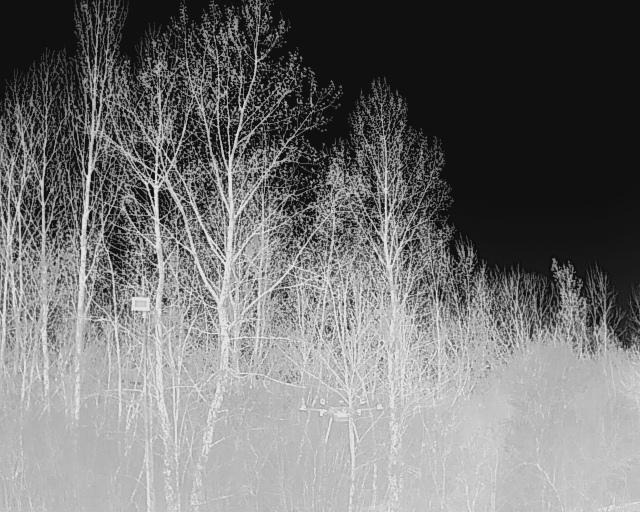drone: (297, 389, 389, 452)
